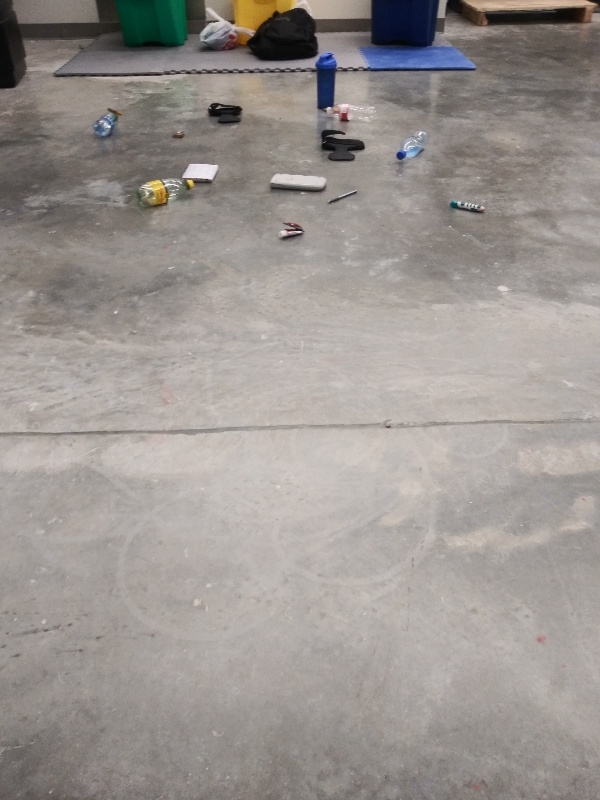bottle: (133, 172, 198, 212), (393, 124, 434, 167), (321, 101, 383, 126), (91, 108, 123, 145)
